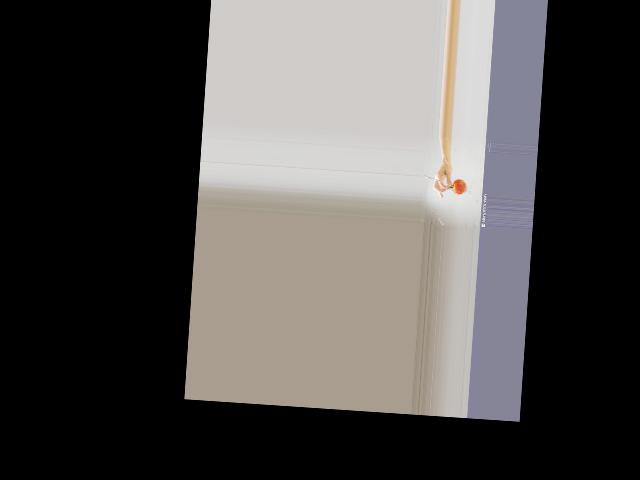tomato: (452, 177, 467, 194)
